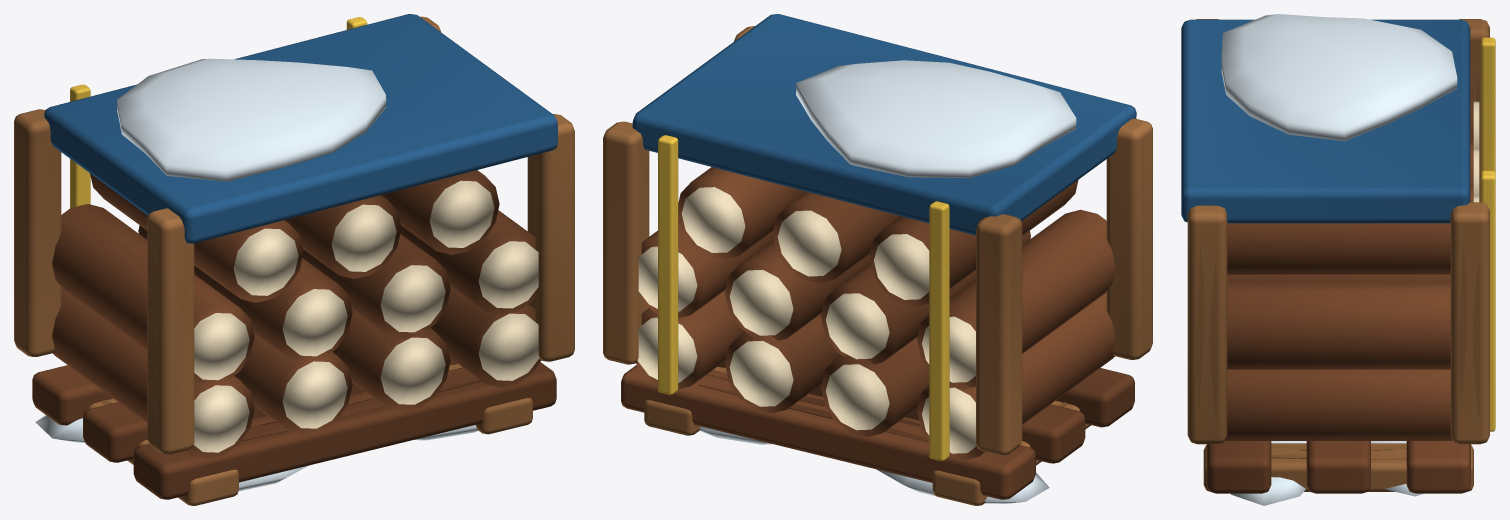
Rendered from wood_stack.glb.
The picture shows the model from 3 angles, left to right: view 1: azimuth 30°, elevation 25°; view 2: azimuth 150°, elevation 25°; view 3: azimuth 270°, elevation 25°; orthographic projection.
Visible parts, largest first — view 1: wood_stack; view 2: wood_stack; view 3: wood_stack.
Part boxes in pixels (box(x1,y1,x2,y2)): wood_stack: box(14, 14, 574, 505); wood_stack: box(603, 14, 1152, 505); wood_stack: box(1181, 14, 1495, 505).
Size of the model in its own units: 1.45 by 1.18 by 0.9575.
